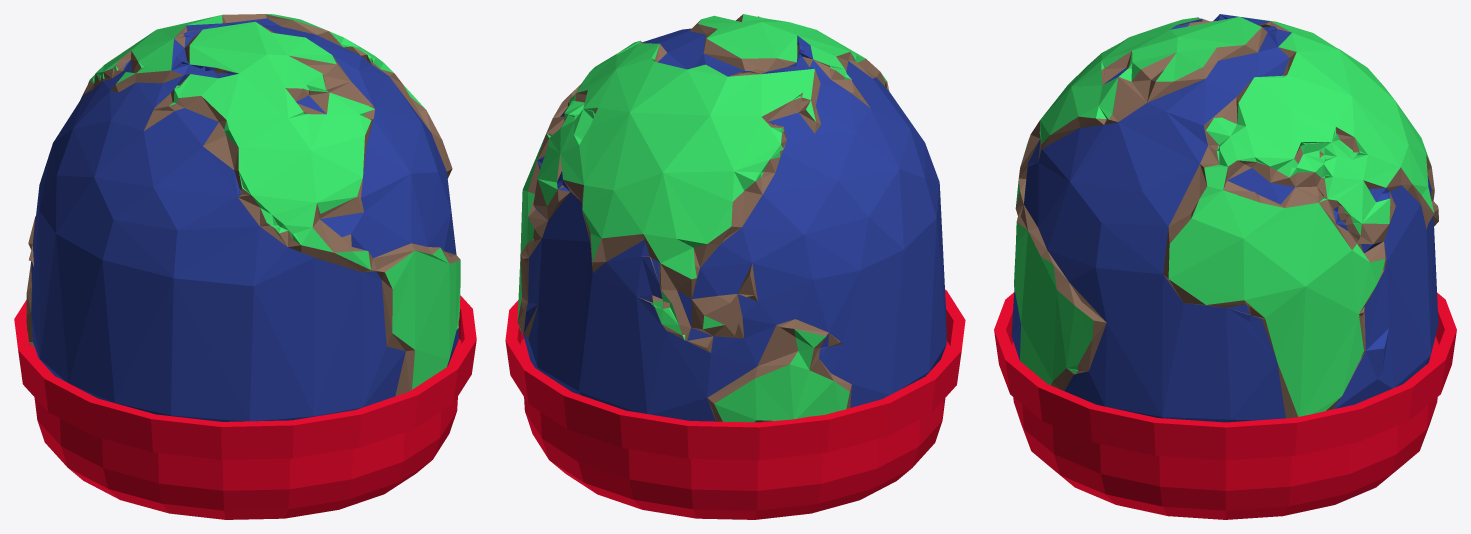
The model's file is GlobeCapsuleCompressed.glb.
3 renders of one model, left to right at view 1: azimuth 30°, elevation 25°; view 2: azimuth 150°, elevation 25°; view 3: azimuth 270°, elevation 25°, orthographic.
Visible parts, largest first — view 1: Cylinder; view 2: Cylinder; view 3: Cylinder.
Part boxes in pixels (x1,y1,x2,y2): Cylinder: (14,14,476,519); Cylinder: (505,14,965,519); Cylinder: (994,14,1456,519).
Bounding box in the file's own units: 2.21 × 2.17 × 2.21.
